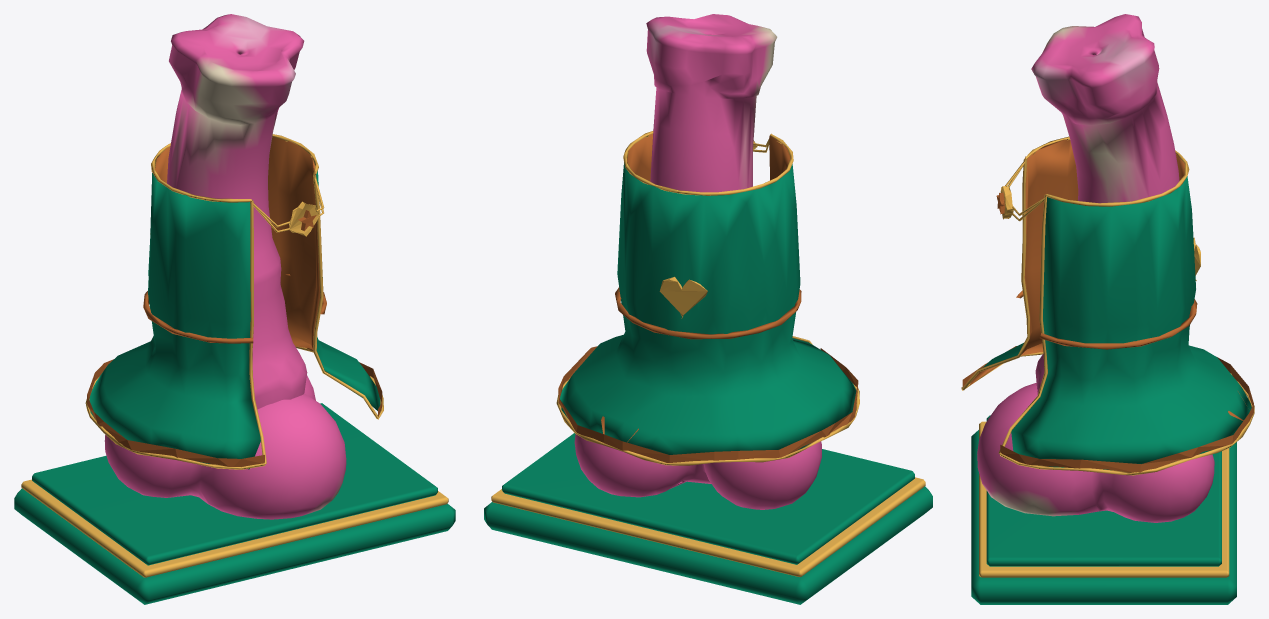
File: chess.set.velvet-court.glb
3 renders of one model, left to right at view 1: azimuth 30°, elevation 25°; view 2: azimuth 150°, elevation 25°; view 3: azimuth 270°, elevation 25°, orthographic.
Visible parts, largest first — view 1: back_heraldry, knight, stand_top, stand_base, stand_gold_band; view 2: back_heraldry, knight, stand_top, stand_base, stand_gold_band; view 3: back_heraldry, knight, stand_top, stand_base, stand_gold_band.
Part boxes in pixels (x1,y1,x2,y2): back_heraldry: [85, 134, 383, 469]; knight: [104, 14, 346, 519]; stand_top: [32, 403, 437, 565]; stand_base: [14, 488, 455, 604]; stand_gold_band: [21, 479, 448, 577]; back_heraldry: [556, 131, 859, 465]; knight: [574, 14, 821, 509]; stand_top: [502, 433, 914, 564]; stand_base: [484, 486, 932, 604]; stand_gold_band: [491, 477, 925, 576]; back_heraldry: [961, 136, 1254, 475]; knight: [977, 14, 1214, 522]; stand_top: [986, 415, 1221, 566]; stand_base: [971, 430, 1236, 604]; stand_gold_band: [979, 421, 1229, 577].
Size of the model in its own units: 0.5111 by 0.75 by 0.4033.
